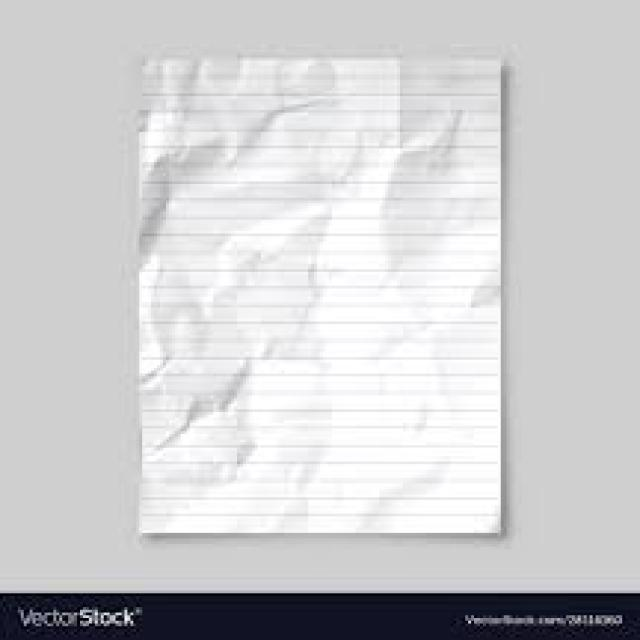paper: (133, 52, 507, 530)
